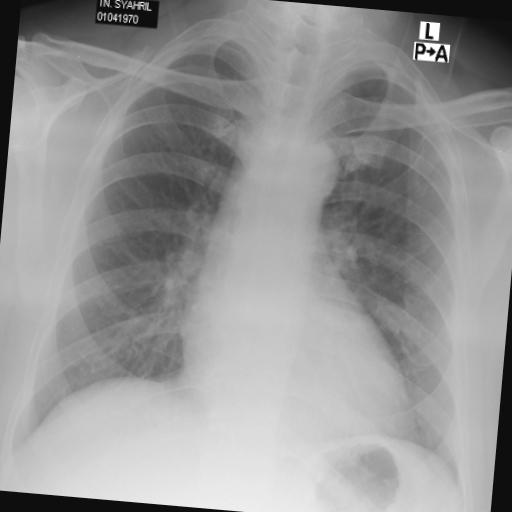kardiomegali: (4, 0, 512, 505)
